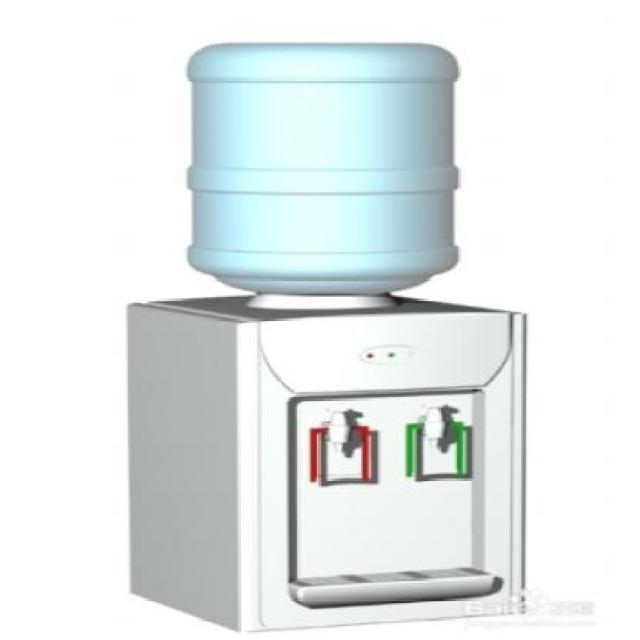cooler: (114, 37, 528, 639)
